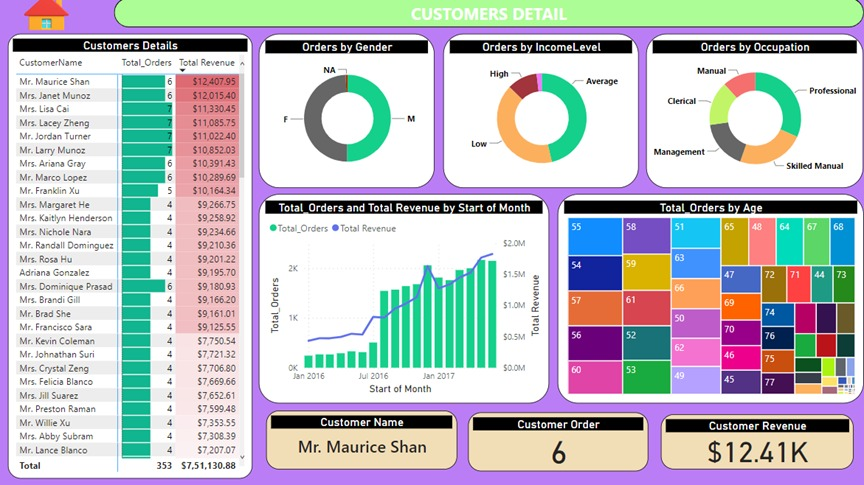

The dashboard page shown, as its layout file describes it:
{"tool":"powerbi","page":{"name":"Customer Detail","canvas":[1280,720],"ordinal":2},"visuals":[{"type":"pivotTable","title":"Customers Details","fields":{"Values":["Sales.Total_Orders","Sales.Total Revenue"],"Rows":["Dim_Customers.CustomerName"]},"box":[15.1,57.6,358.1,653.2],"z":0},{"type":"donutChart","title":"Orders by Gender","fields":{"Category":["Dim_Customers.Gender"],"Y":["Sales.Total_Orders"]},"box":[382.8,57.6,258,226.4],"z":1000},{"type":"donutChart","title":"Orders by IncomeLevel","fields":{"Category":["Dim_Customers.IncomeLevel"],"Y":["Sales.Total_Orders"]},"box":[653.2,57.6,286.8,226.4],"z":2000},{"type":"donutChart","title":"Orders by Occupation","fields":{"Category":["Dim_Customers.Occupation"],"Y":["Sales.Total_Orders"]},"box":[950.9,57.6,318.4,226.4],"z":3000},{"type":"lineClusteredColumnComboChart","fields":{"Category":["Dim_Calender.Start of Month"],"Y2":["Sales.Total Revenue"],"Y":["Sales.Total_Orders"]},"box":[382.6,293.4,425.9,306.9],"z":4000},{"type":"card","title":"Customer Name","fields":{"Values":["Min(Dim_Customers.CustomerName)"]},"box":[393.4,611.1,279.8,86.5],"z":5000},{"type":"card","title":"Customer Order","fields":{"Values":["Sales.Total_Orders"]},"box":[689.5,613.8,263.6,86.5],"z":6000},{"type":"card","title":"Customer Revenue","fields":{"Values":["Sales.Total Revenue"]},"box":[972,616.5,282.6,81.1],"z":7000},{"type":"treemap","title":"Total_Orders by Age","fields":{"Group":["Dim_Customers.Current Age.Variation.Date Hierarchy.Year"],"Values":["Sales.Total_Orders"]},"box":[820.6,293.4,448.8,306.9],"z":12000},{"type":"shape","box":[170.3,5.4,1099.1,43.3],"z":12001},{"type":"image","box":[9.5,0,123,58.1],"z":12002}]}

Visuals, with their boxes in screenshot pixels (x1, y1, x2, y2), scaled from the page's 1280x720 canvas onto the 864x485 screenshot:
"Customers Details" pivotTable: [10,39,252,479]
"Orders by Gender" donutChart: [258,39,433,191]
"Orders by IncomeLevel" donutChart: [441,39,634,191]
"Orders by Occupation" donutChart: [642,39,857,191]
lineClusteredColumnComboChart - Dim_Calender.Start of Month x Sales.Total Revenue: [258,198,546,404]
"Customer Name" card: [266,412,454,470]
"Customer Order" card: [465,413,643,472]
"Customer Revenue" card: [656,415,847,470]
"Total_Orders by Age" treemap: [554,198,857,404]
shape: [115,4,857,33]
image: [6,0,89,39]
